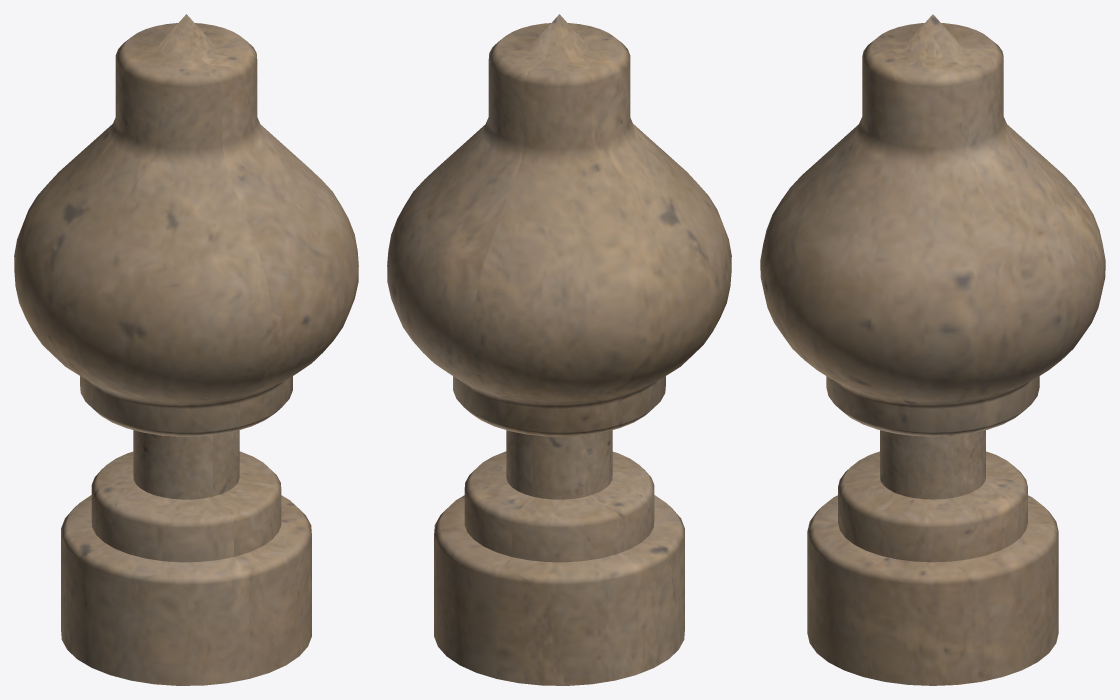
Rendered from SM_MausoleumUrnDecor.fbx.
The picture shows the model from 3 angles, left to right: view 1: azimuth 30°, elevation 25°; view 2: azimuth 150°, elevation 25°; view 3: azimuth 270°, elevation 25°; orthographic projection.
Visible parts, largest first — view 1: SM_MausoleumUrnDecor_LOD0; view 2: SM_MausoleumUrnDecor_LOD0; view 3: SM_MausoleumUrnDecor_LOD0.
Boxes of the visible parts, left/top/right/bottom form: SM_MausoleumUrnDecor_LOD0: left=14, top=14, right=358, bottom=685; SM_MausoleumUrnDecor_LOD0: left=387, top=14, right=731, bottom=685; SM_MausoleumUrnDecor_LOD0: left=760, top=14, right=1105, bottom=685.
Bounding box in the file's own units: 19.54 × 19.54 × 38.62.
Materials: 1 (1 with a texture image).
